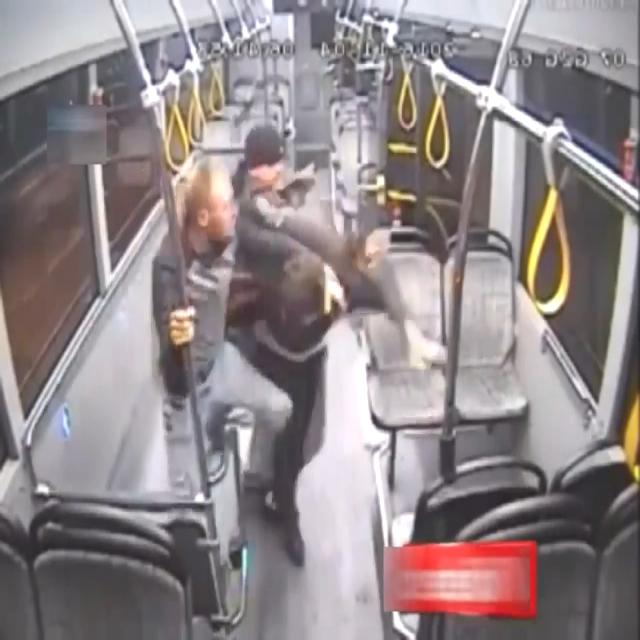fight: (155, 126, 343, 572)
